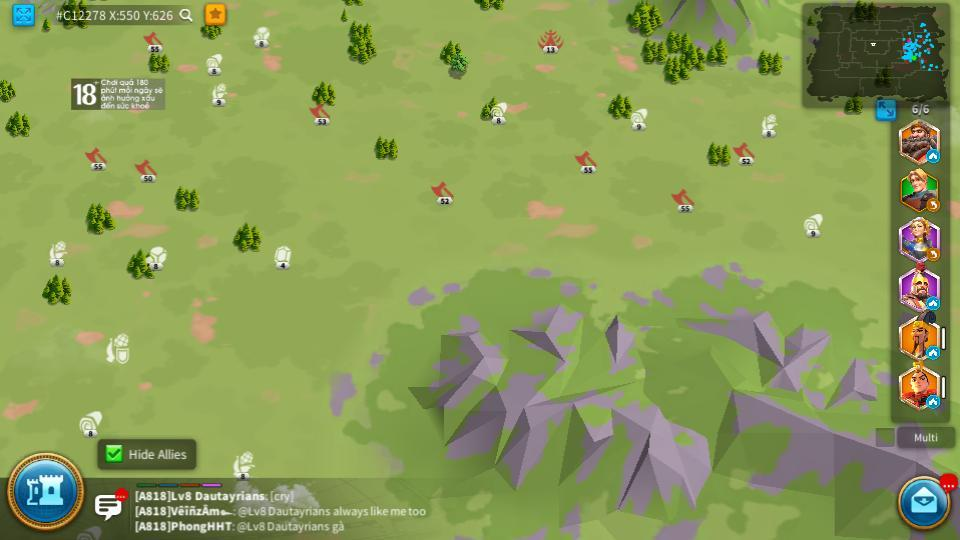gem-z-out: (270, 483, 316, 504), (273, 246, 292, 268)
march_idle: (926, 396, 940, 407), (926, 151, 940, 162), (927, 348, 940, 359), (925, 297, 938, 307)
march_returning: (926, 248, 941, 261), (927, 199, 941, 211)
